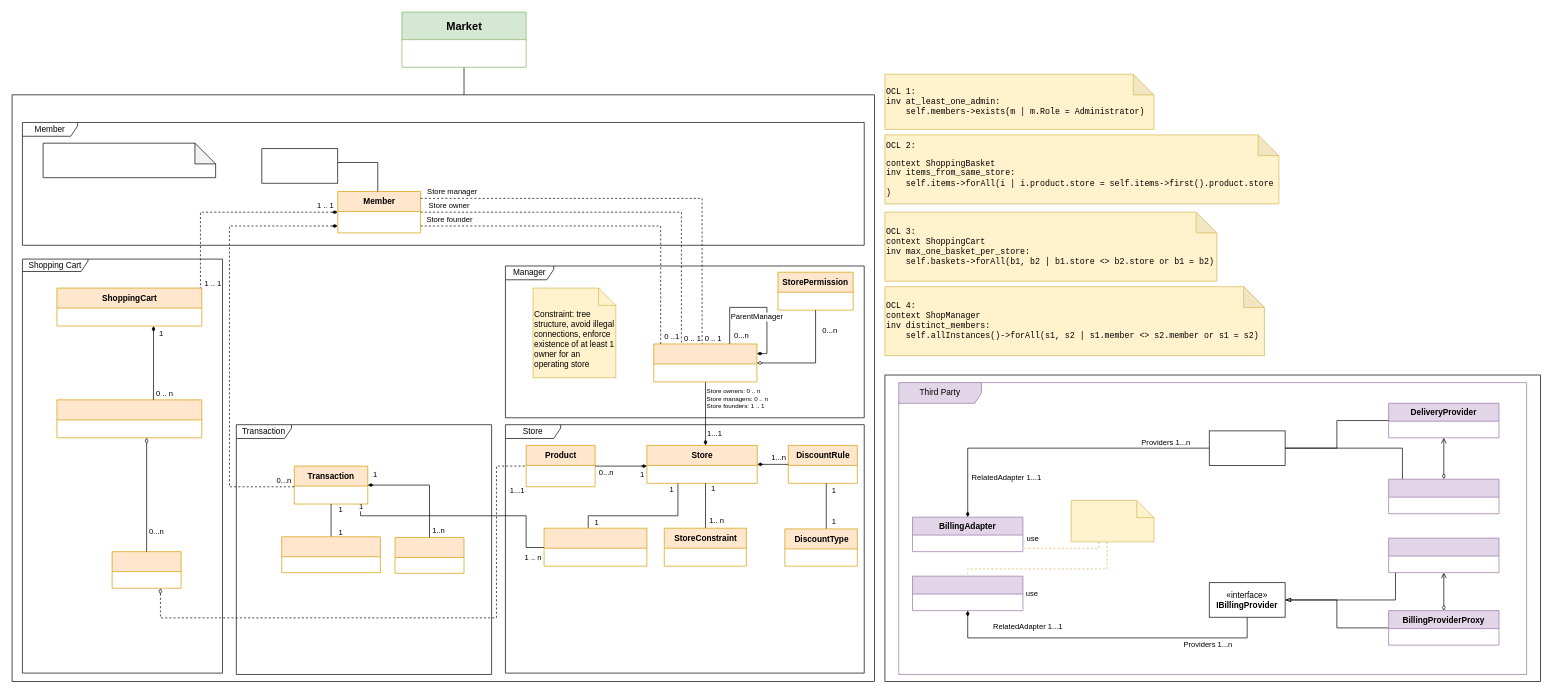
Some shapes in this 1553 by 693 pixel diagram are drawn without their labels. The shapes that lost their labels are listed below. From the top down, each one's centre as x and y in pixels, then its label:
the point at 129,160: Role: Member, Administrator
the point at 299,165: Role
the point at 705,362: StoreManager
the point at 129,418: ShoppingBasket
the point at 1247,447: «interface» IDeliveryProvider
the point at 1443,496: DeliveryProviderProxy
the point at 1112,521: Singletons
the point at 330,554: UserTransaction
the point at 429,555: TransactionItem
the point at 595,547: ShopTransactionHistory
the point at 1443,555: BillingProvider
the point at 146,569: ShoppingItem
the point at 967,593: DeliveryAdapter
